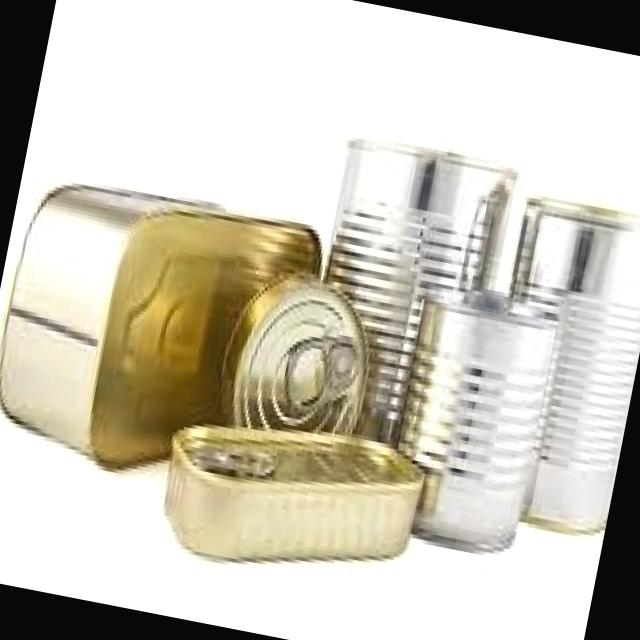kim_loai: (0, 184, 319, 467), (327, 141, 519, 443), (515, 202, 640, 533), (399, 301, 559, 552), (165, 426, 424, 561), (222, 278, 370, 432)
